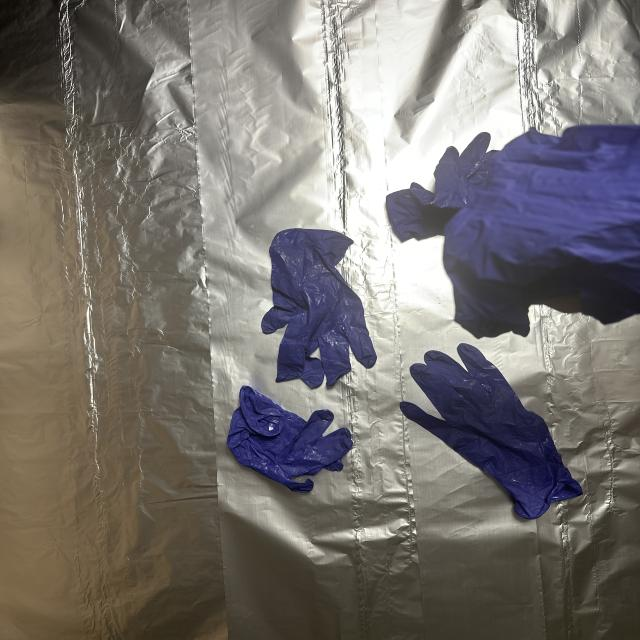glove_not_fitted: (431, 118, 640, 352)
